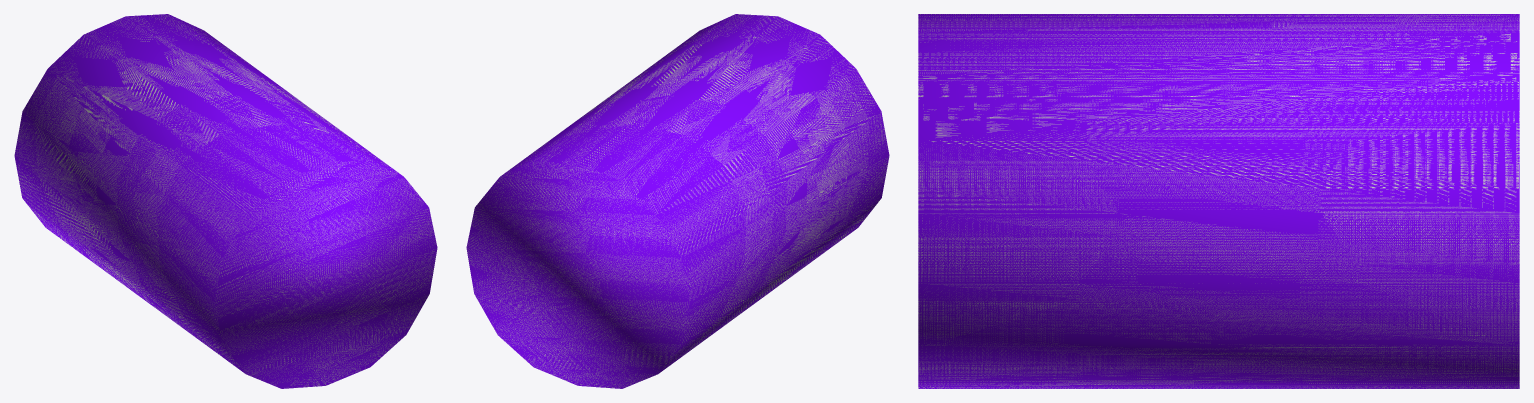
File: original-25.obj
3 views of the same model, side by side, from view 1: azimuth 30°, elevation 25°; view 2: azimuth 150°, elevation 25°; view 3: azimuth 270°, elevation 25° (orthographic). The views are drawn at different scales.
Parts seen in each view (by area): view 1: mesh19/mesh19-geometry#mesh19-geometry; view 2: mesh19/mesh19-geometry#mesh19-geometry; view 3: mesh19/mesh19-geometry#mesh19-geometry.
Part boxes in pixels (x1,y1,x2,y2): mesh19/mesh19-geometry#mesh19-geometry: (14,14,437,388); mesh19/mesh19-geometry#mesh19-geometry: (466,14,889,388); mesh19/mesh19-geometry#mesh19-geometry: (918,14,1519,388).
Size of the model in its own units: 0.000665 by 0.000636 by 0.00103.
